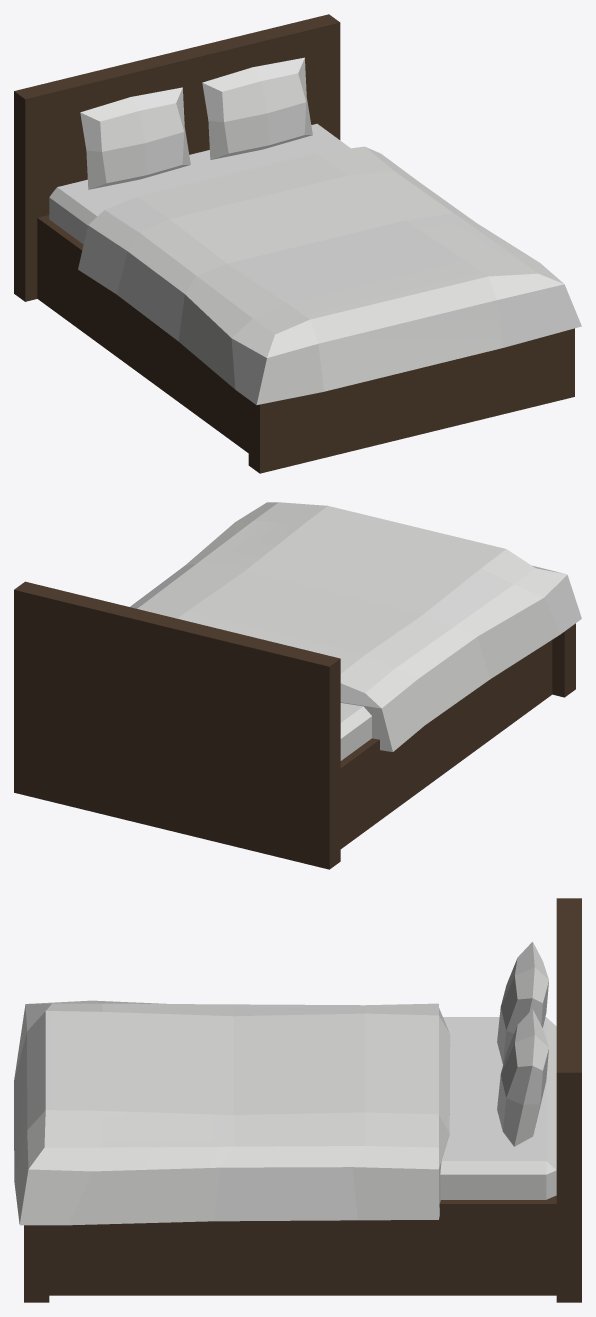
The model's file is furniture_bed-large.fbx.
The picture shows the model from 3 angles, top to bottom: view 1: azimuth 30°, elevation 25°; view 2: azimuth 150°, elevation 25°; view 3: azimuth 270°, elevation 25°; orthographic projection. The views are drawn at different scales.
Visible parts, largest first — view 1: furniture_bed_large; view 2: furniture_bed_large; view 3: furniture_bed_large.
Part boxes in pixels (<box>): furniture_bed_large: <box>14,14,581,473</box>; furniture_bed_large: <box>14,502,581,869</box>; furniture_bed_large: <box>14,898,581,1302</box>.
Size of the model in its own units: 150 by 89.29 by 200.
